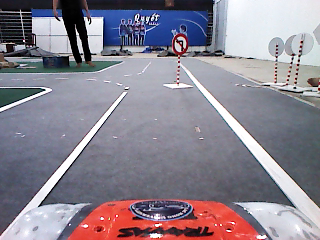ban: (172, 33, 189, 55)
